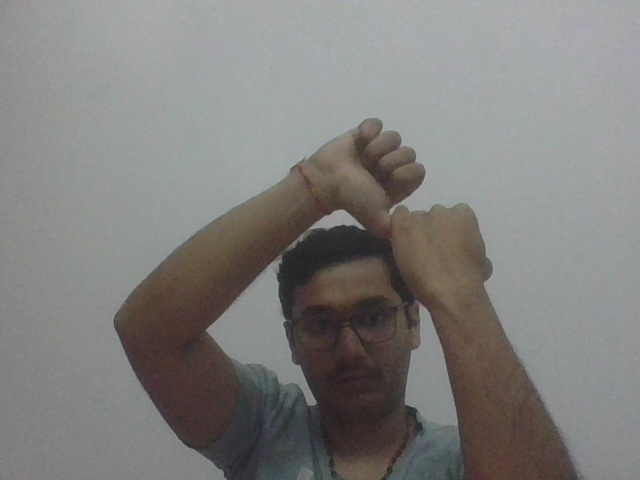S: (358, 109, 498, 281)
